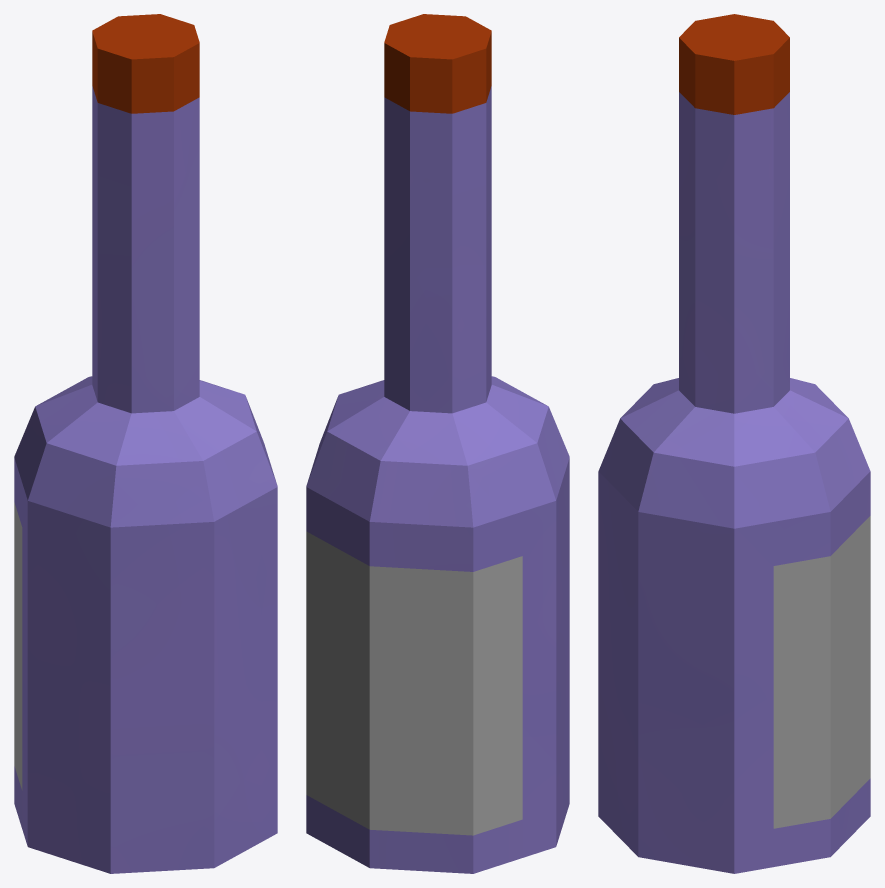
The model's file is bottle_4.fbx.
The picture shows the model from 3 angles, left to right: view 1: azimuth 30°, elevation 25°; view 2: azimuth 150°, elevation 25°; view 3: azimuth 270°, elevation 25°; orthographic projection.
Parts seen in each view (by area): view 1: bottle_4; view 2: bottle_4; view 3: bottle_4.
Part boxes in pixels (<box>): bottle_4: <box>14,14,277,873</box>; bottle_4: <box>306,14,569,873</box>; bottle_4: <box>598,14,870,873</box>.
Size of the model in its own units: 4.17 by 13.19 by 4.17.
